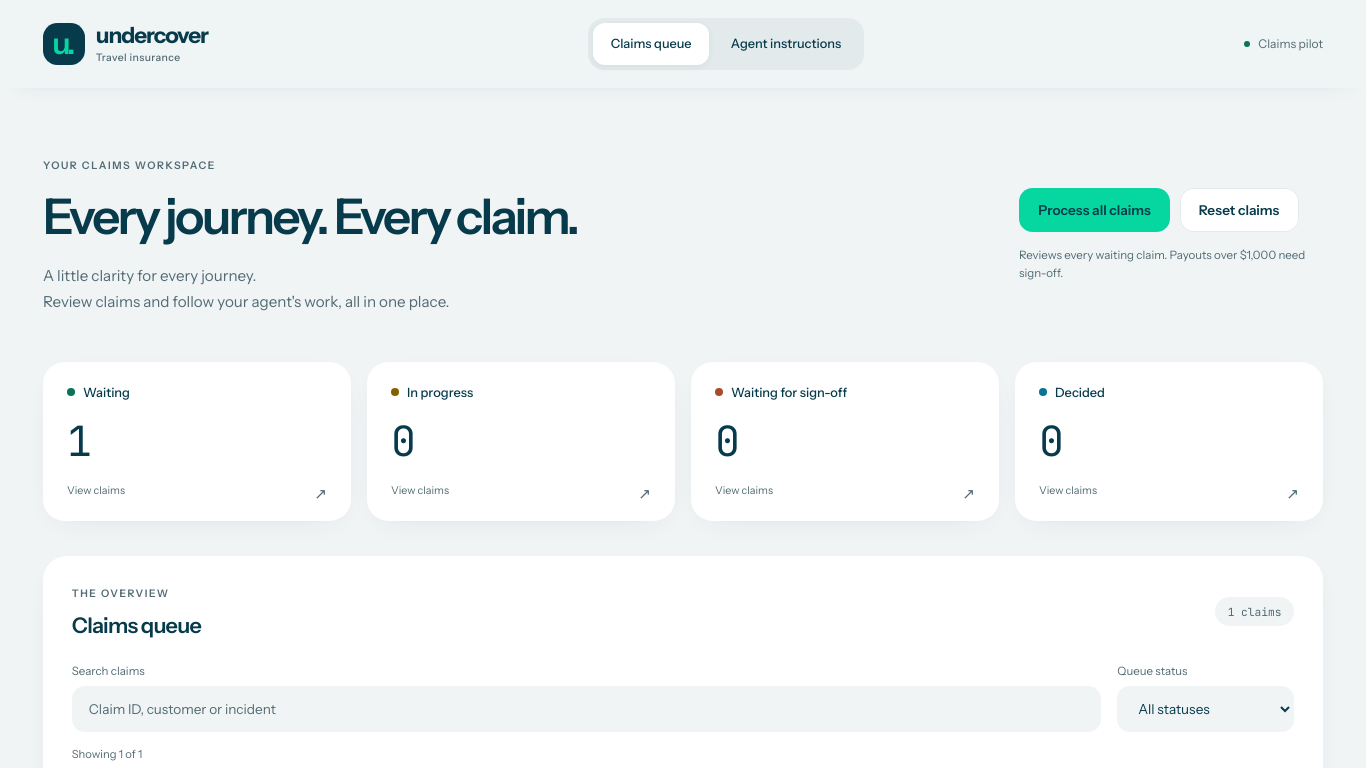
filters from status cards, syncs the select and toggles back to all claims
The width and height of the screenshot is (1366, 768).
Click the button with aria-label "Filter by Decided" at coordinates (1080, 392), box [1015,362,1323,521]
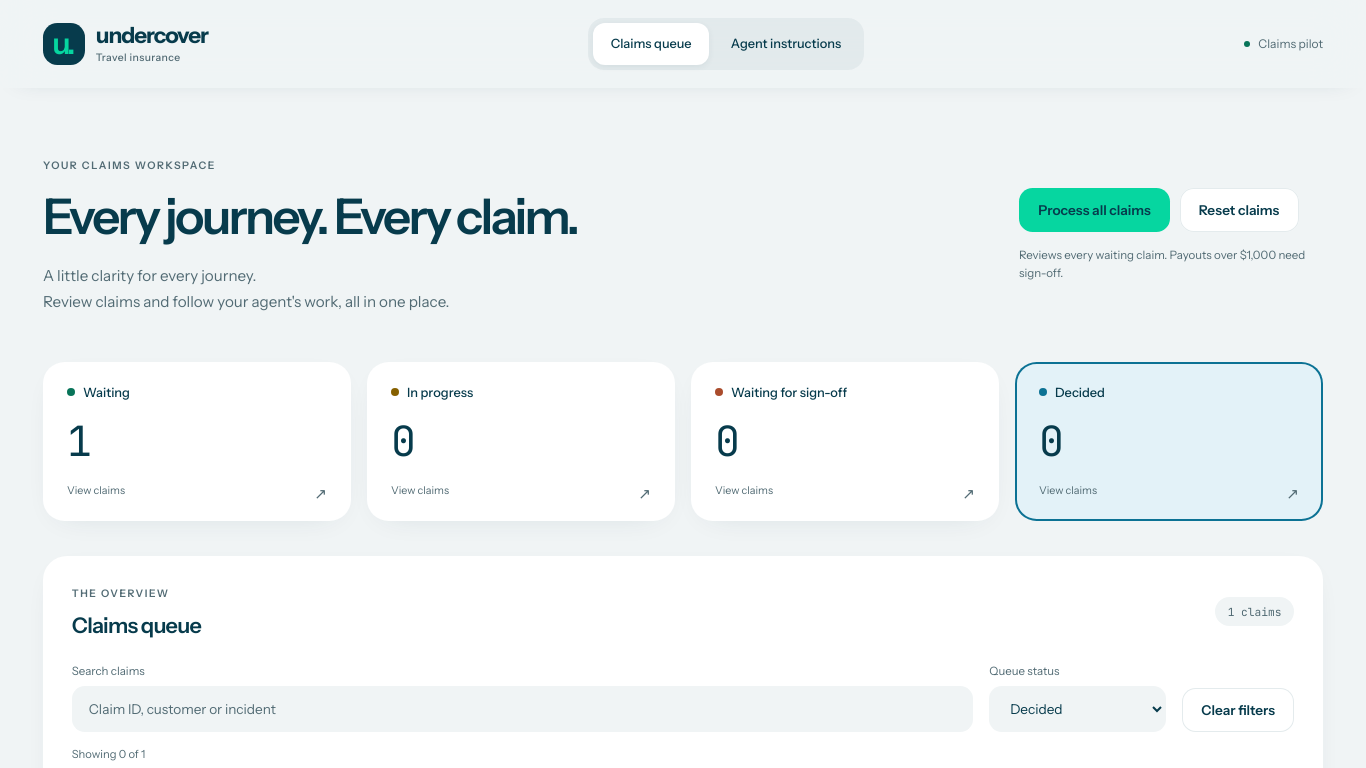
expect the dropdown labelled "Queue status" shows "Decided": met, box [989,686,1166,732]
Click the button with aria-label "Filter by Decided" at coordinates (1080, 392), box [1015,362,1323,521]
(page scrolled)
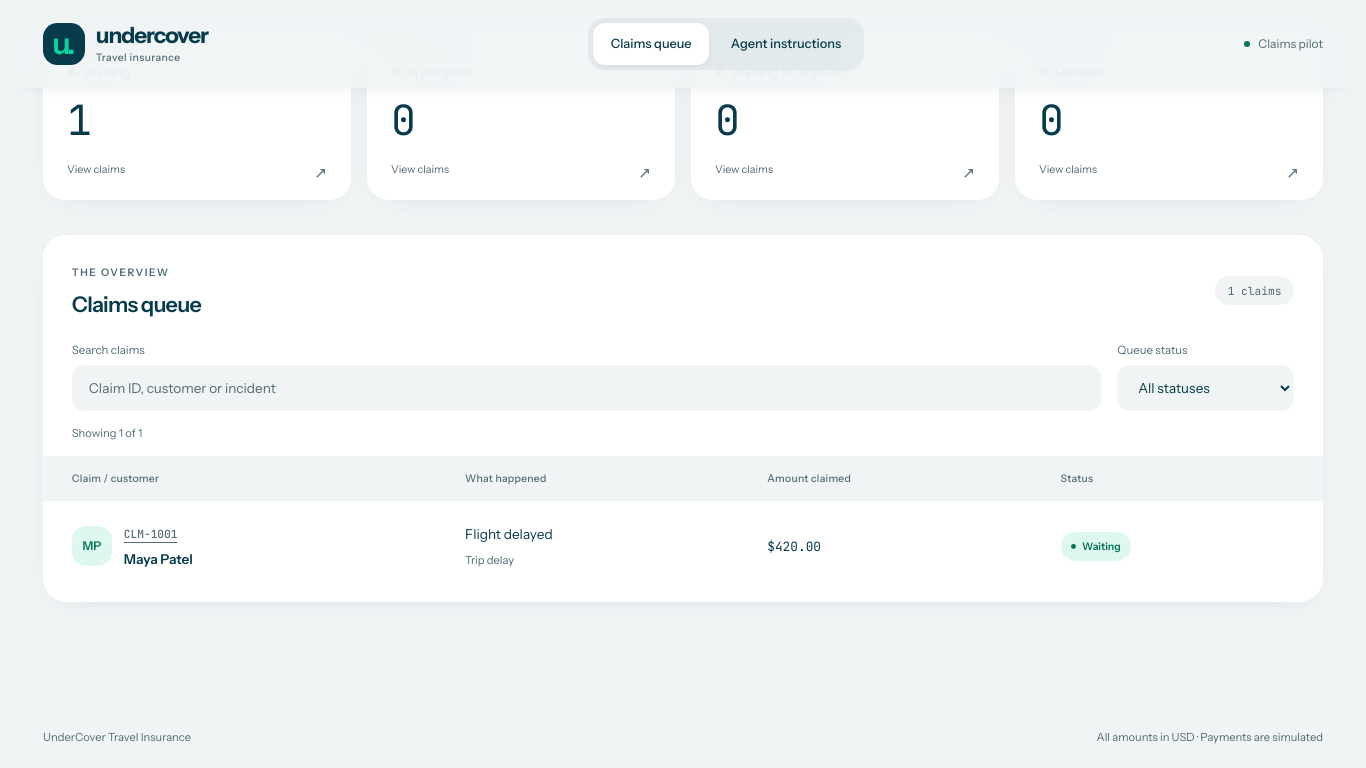
expect the link "CLM-1001" is shown: met, box [124,527,178,541]
